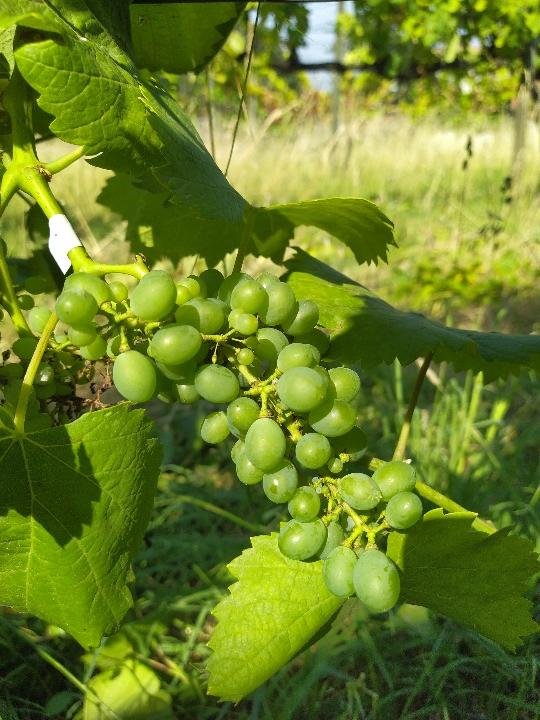grape: (49, 259, 428, 624)
